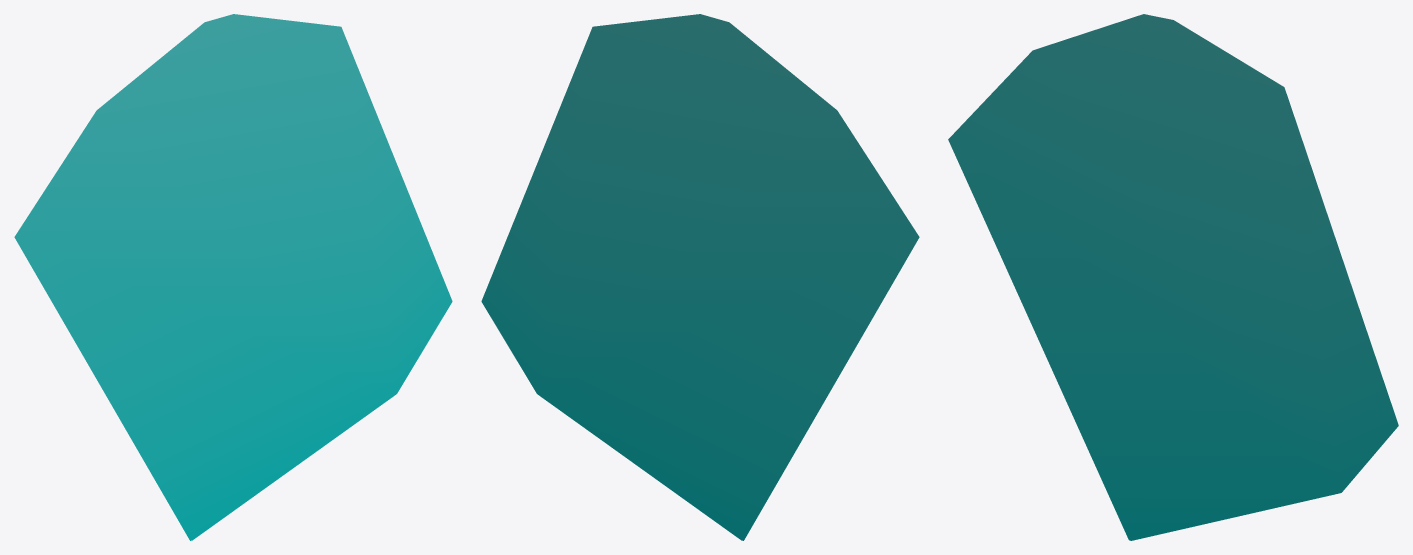
The model's file is Black_Locust_wdvhberja_Mid_wdvhberja_VarH_LOD3.fbx.
The picture shows the model from 3 angles, left to right: view 1: azimuth 30°, elevation 25°; view 2: azimuth 150°, elevation 25°; view 3: azimuth 330°, elevation 25°; orthographic projection. The views are drawn at different scales.
Visible parts, largest first — view 1: _bnrd_VarH_LOD4; view 2: _bnrd_VarH_LOD4; view 3: _bnrd_VarH_LOD4.
Boxes of the visible parts, x1=… form: _bnrd_VarH_LOD4: x1=14, y1=14, x2=452, y2=540; _bnrd_VarH_LOD4: x1=481, y1=14, x2=919, y2=540; _bnrd_VarH_LOD4: x1=948, y1=14, x2=1398, y2=540.
Size of the model in its own units: 91.57 by 103 by 0.
